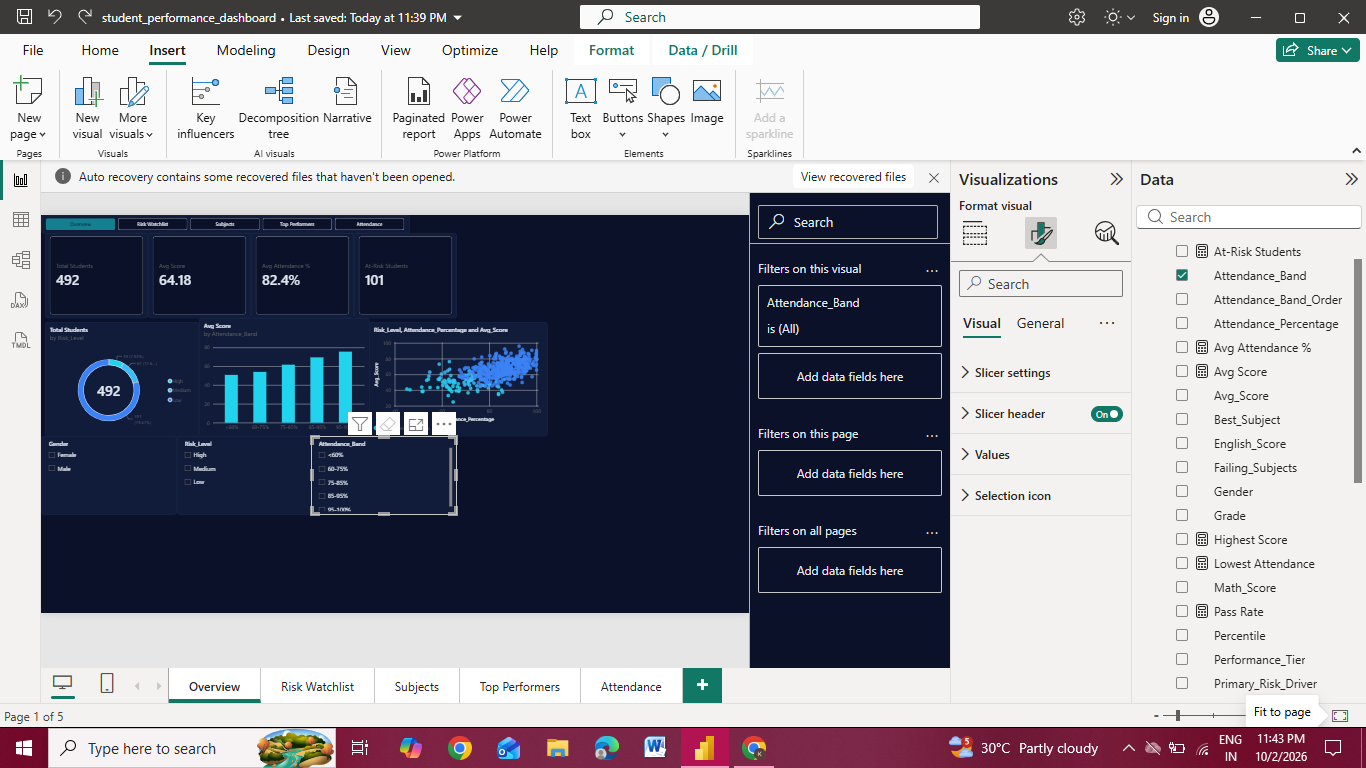

What the dashboard file says about the page in this screenshot:
{"tool":"powerbi","page":{"name":" Overview","canvas":[1920,1080],"ordinal":0},"visuals":[{"type":"cardVisual","fields":{"Data":["students.Total Students"]},"box":[10.8,48.8,279.3,230.5],"z":0},{"type":"cardVisual","fields":{"Data":["students.Avg Score"]},"box":[290.2,48.8,279.3,230.5],"z":1000},{"type":"cardVisual","fields":{"Data":["students.Avg Attendance %"]},"box":[569.5,48.8,279.3,230.5],"z":2000},{"type":"cardVisual","fields":{"Data":["students.At-Risk Students"]},"box":[848.8,48.8,279.3,230.5],"z":3000},{"type":"donutChart","fields":{"Category":["students.Risk_Level"],"Y":["students.Total Students"]},"box":[11.1,290.5,417.8,309.9],"z":4000},{"type":"clusteredColumnChart","fields":{"Category":["students.Attendance_Band"],"Y":["students.Avg Score"]},"box":[428.8,279.4,462,320.9],"z":5000},{"type":"scatterChart","fields":{"Series":["students.Risk_Level"],"X":["students.Attendance_Percentage"],"Y":["students.Avg_Score"]},"box":[890.8,290.5,484.1,309.9],"z":6000},{"type":"slicer","fields":{"Values":["students.Gender"]},"box":[0,600.3,368,213],"z":7000},{"type":"slicer","fields":{"Values":["students.Risk_Level"]},"box":[368,600.3,365.2,213],"z":8000},{"type":"slicer","fields":{"Values":["students.Attendance_Band"]},"box":[733.1,600.3,395.6,213],"z":9000},{"type":"pageNavigator","box":[0,0,1000,50],"z":9001}]}

Visuals, with their boxes on the page's 1920x1080 design canvas (x1, y1, x2, y2). These are canvas units, not pixel positions in the 1366x768 screenshot, which may show the page scaled, cropped or inside an application window:
cardVisual - students.Total Students: left=11, top=49, right=290, bottom=279
cardVisual - students.Avg Score: left=290, top=49, right=570, bottom=279
cardVisual - students.Avg Attendance %: left=570, top=49, right=849, bottom=279
cardVisual - students.At-Risk Students: left=849, top=49, right=1128, bottom=279
donutChart - students.Risk_Level x students.Total Students: left=11, top=290, right=429, bottom=600
clusteredColumnChart - students.Attendance_Band x students.Avg Score: left=429, top=279, right=891, bottom=600
scatterChart - students.Risk_Level x students.Attendance_Percentage: left=891, top=290, right=1375, bottom=600
slicer - students.Gender: left=0, top=600, right=368, bottom=813
slicer - students.Risk_Level: left=368, top=600, right=733, bottom=813
slicer - students.Attendance_Band: left=733, top=600, right=1129, bottom=813
pageNavigator: left=0, top=0, right=1000, bottom=50
